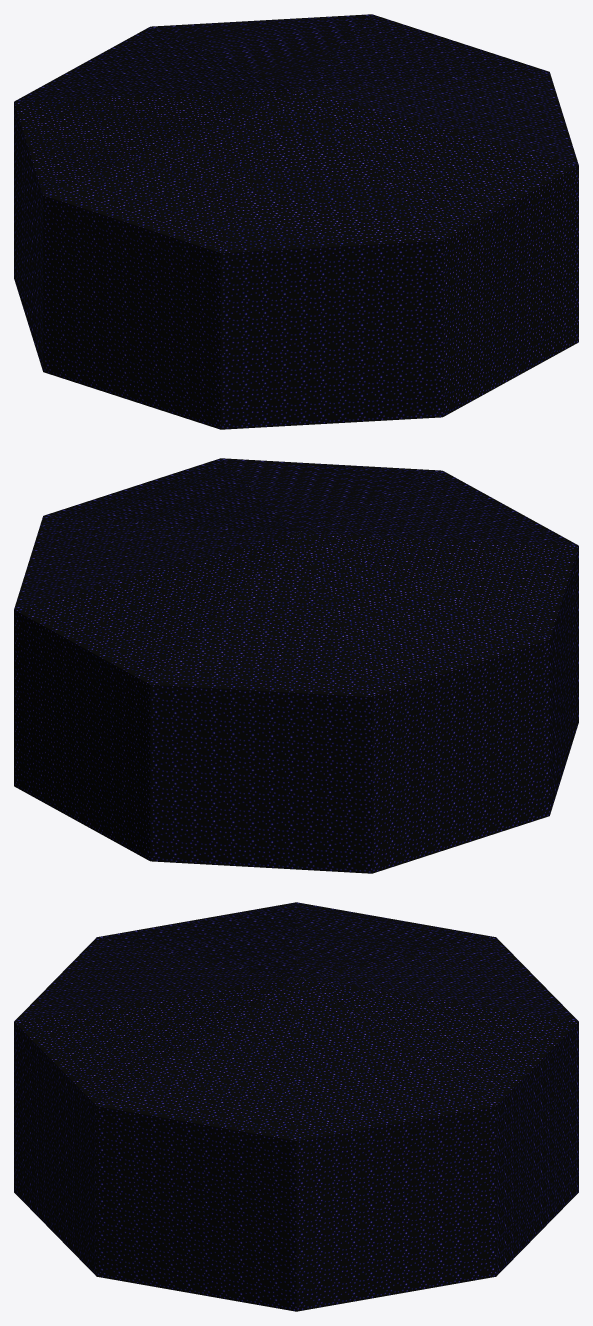
The model's file is smkds_rainbowroad.obj.
The picture shows the model from 3 angles, top to bottom: view 1: azimuth 30°, elevation 25°; view 2: azimuth 150°, elevation 25°; view 3: azimuth 270°, elevation 25°; orthographic projection. The views are drawn at different scales.
Parts seen in each view (by area): view 1: Mesh2 Model; view 2: Mesh2 Model; view 3: Mesh2 Model.
Part boxes in pixels (box(x1,y1,x2,y2)): Mesh2 Model: box(14, 14, 578, 429); Mesh2 Model: box(14, 458, 578, 873); Mesh2 Model: box(14, 902, 578, 1311).
Bounding box in the file's own units: 7200 × 3600 × 7200.
